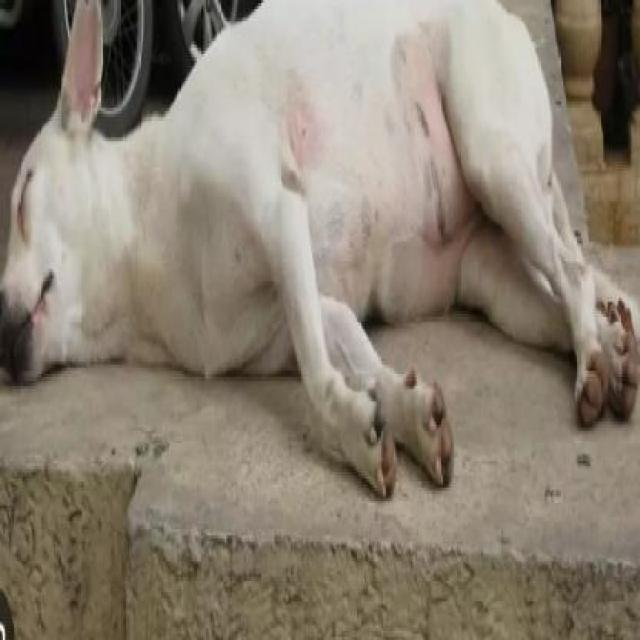dog: (0, 23, 626, 471)
